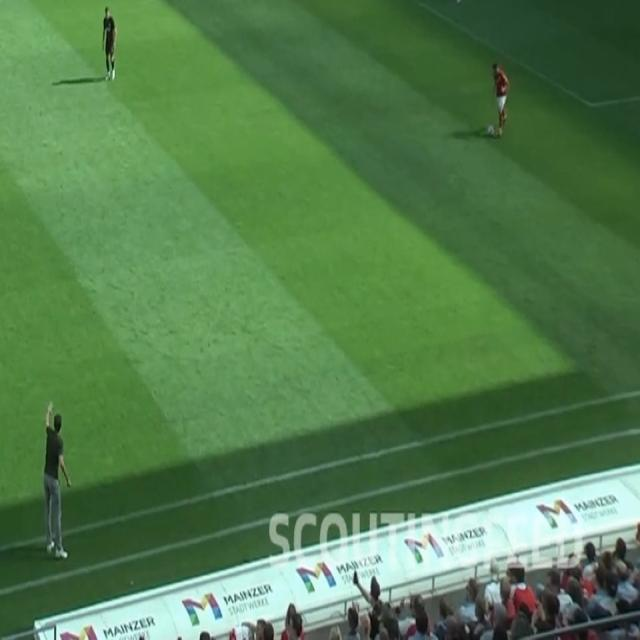ball: (487, 124, 495, 137)
